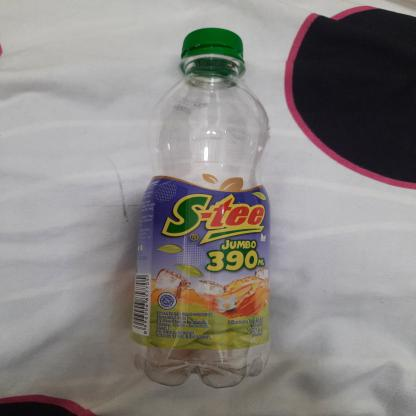plastic: (121, 24, 276, 392)
